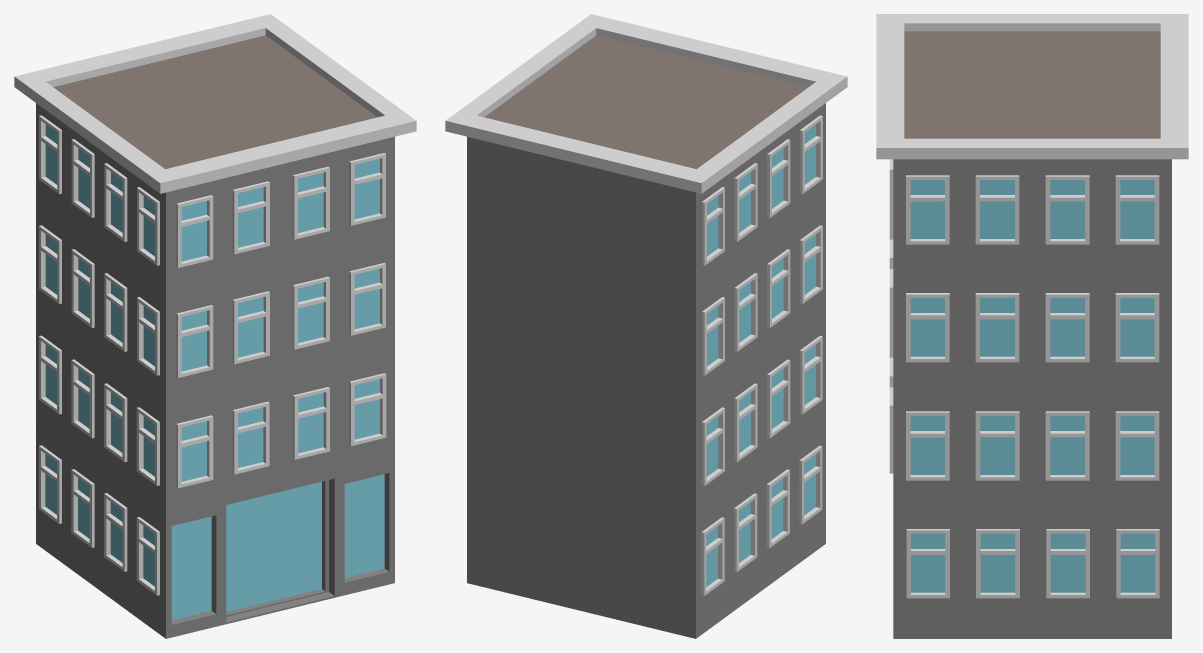
File: Building8.fbx
3 views of the same model, side by side, from view 1: azimuth 30°, elevation 25°; view 2: azimuth 150°, elevation 25°; view 3: azimuth 270°, elevation 25° (orthographic). The views are drawn at different scales.
Parts seen in each view (by area): view 1: pCube14; view 2: pCube14; view 3: pCube14.
Boxes of the visible parts, <box> form: pCube14: <box>14,14,416,638</box>; pCube14: <box>445,14,847,638</box>; pCube14: <box>876,14,1188,638</box>.
Size of the model in its own units: 636 by 1102 by 627.
